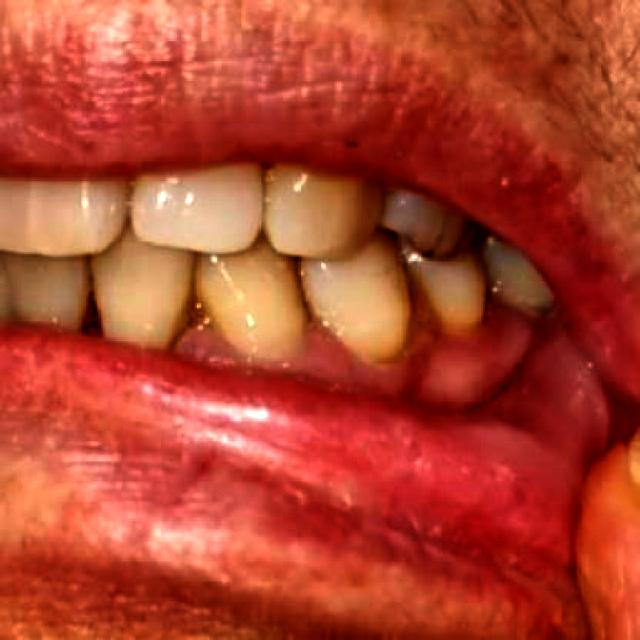Plaque: (177, 300, 541, 382)
